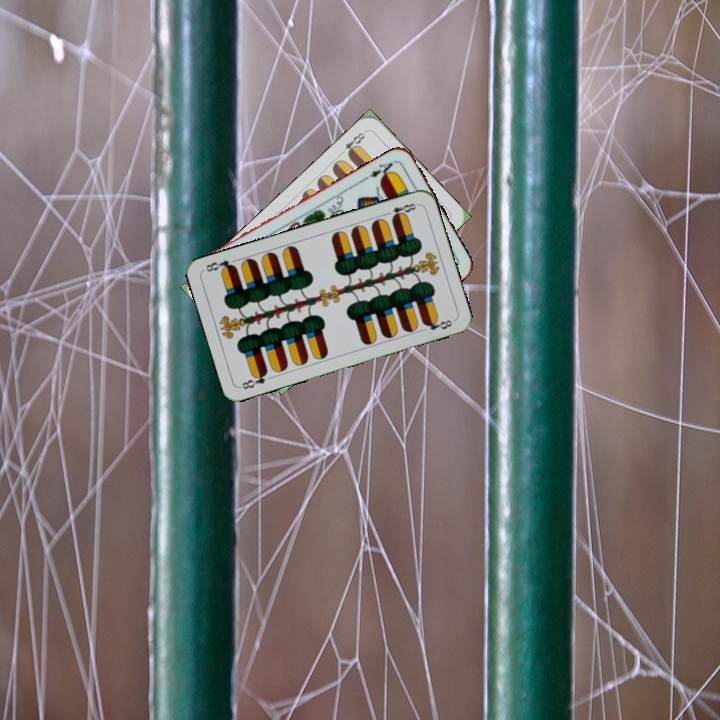E8: (336, 127, 369, 159), (381, 199, 420, 222), (237, 367, 270, 392)
EA: (361, 157, 398, 182)
